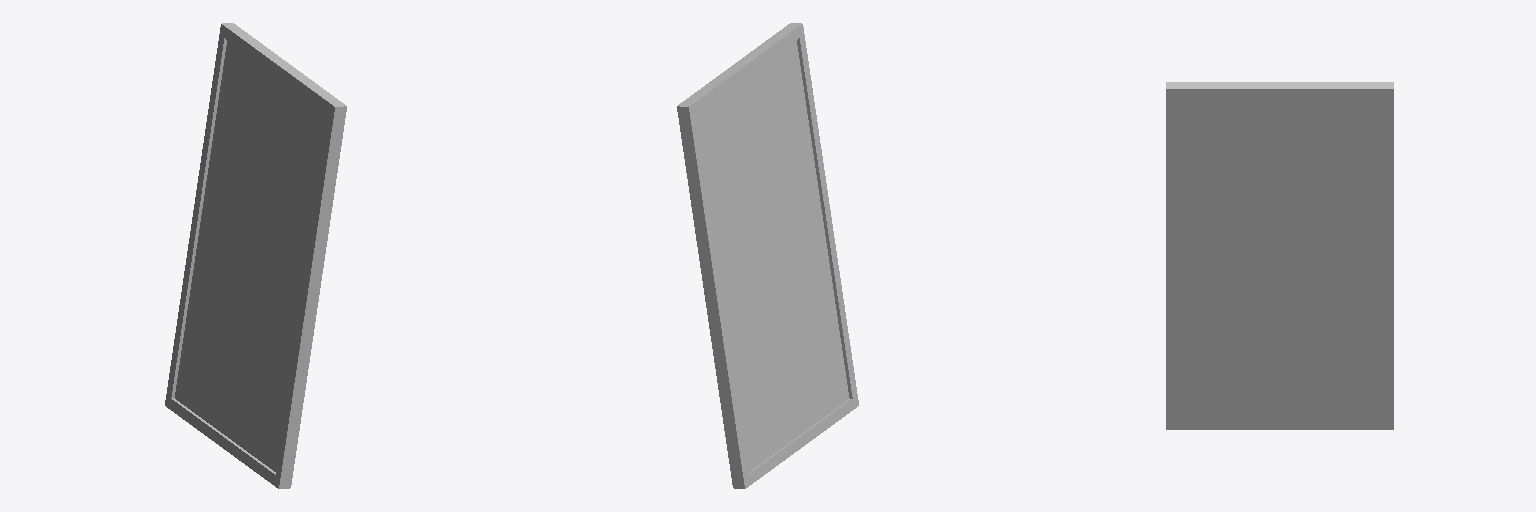
File: buoyPanel.obj
3 renders of one model, left to right at view 1: azimuth 30°, elevation 25°; view 2: azimuth 150°, elevation 25°; view 3: azimuth 270°, elevation 25°, orthographic.
Parts seen in each view (by area): view 1: Object003_Object003Mesh; view 2: Object003_Object003Mesh; view 3: Object003_Object003Mesh.
Boxes of the visible parts, x1,y1,x2,y2 form: Object003_Object003Mesh: [165, 23, 346, 488]; Object003_Object003Mesh: [677, 23, 858, 488]; Object003_Object003Mesh: [1166, 82, 1393, 429].
Bounding box in the file's own units: 0.0787 × 0.4076 × 0.2277.